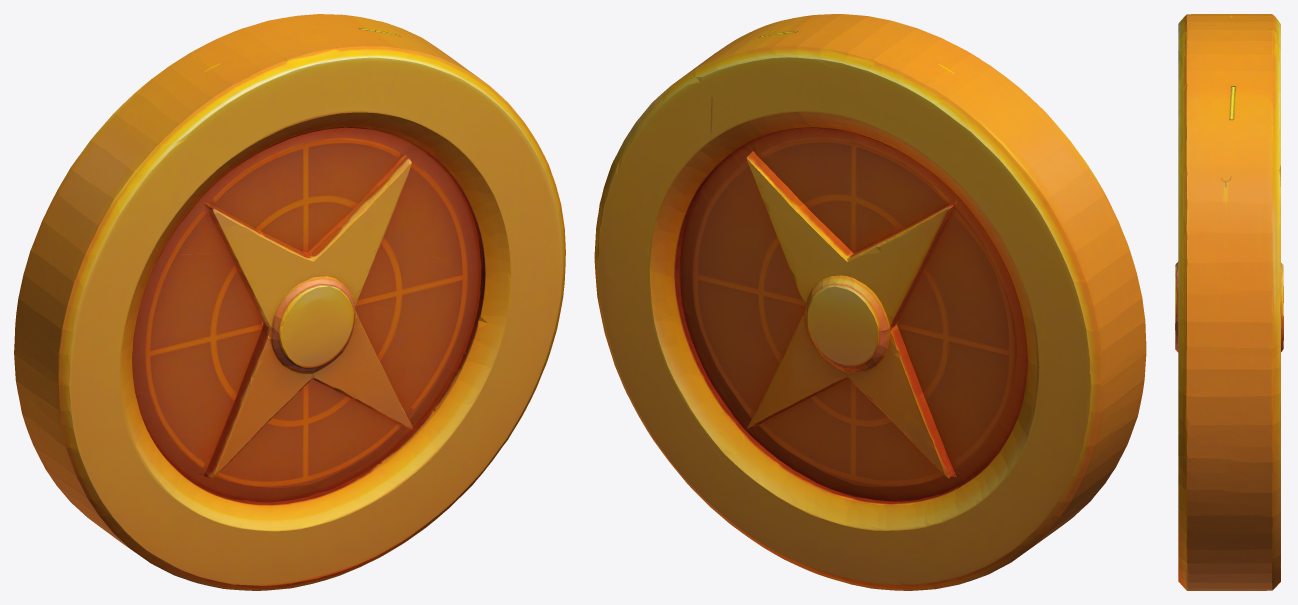
File: Radar Gourmet.fbx
3 views of the same model, side by side, from view 1: azimuth 30°, elevation 25°; view 2: azimuth 150°, elevation 25°; view 3: azimuth 270°, elevation 25° (orthographic).
Parts seen in each view (by area): view 1: temp; view 2: temp; view 3: temp.
Part boxes in pixels (x1,y1,x2,y2): temp: (14, 14, 565, 590); temp: (594, 14, 1146, 590); temp: (1175, 14, 1283, 590).
Bounding box in the file's own units: 200 × 200 × 37.71.
1 material, 1 textured.
